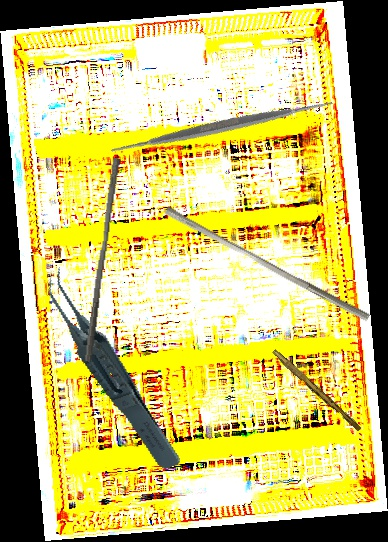Pusher: (160, 205, 375, 323), (83, 157, 122, 363)
Scalpel Handle: (269, 348, 364, 433)
Spatula Surgical: (99, 4, 345, 250)
Tissue Forceps: (41, 249, 184, 487)
